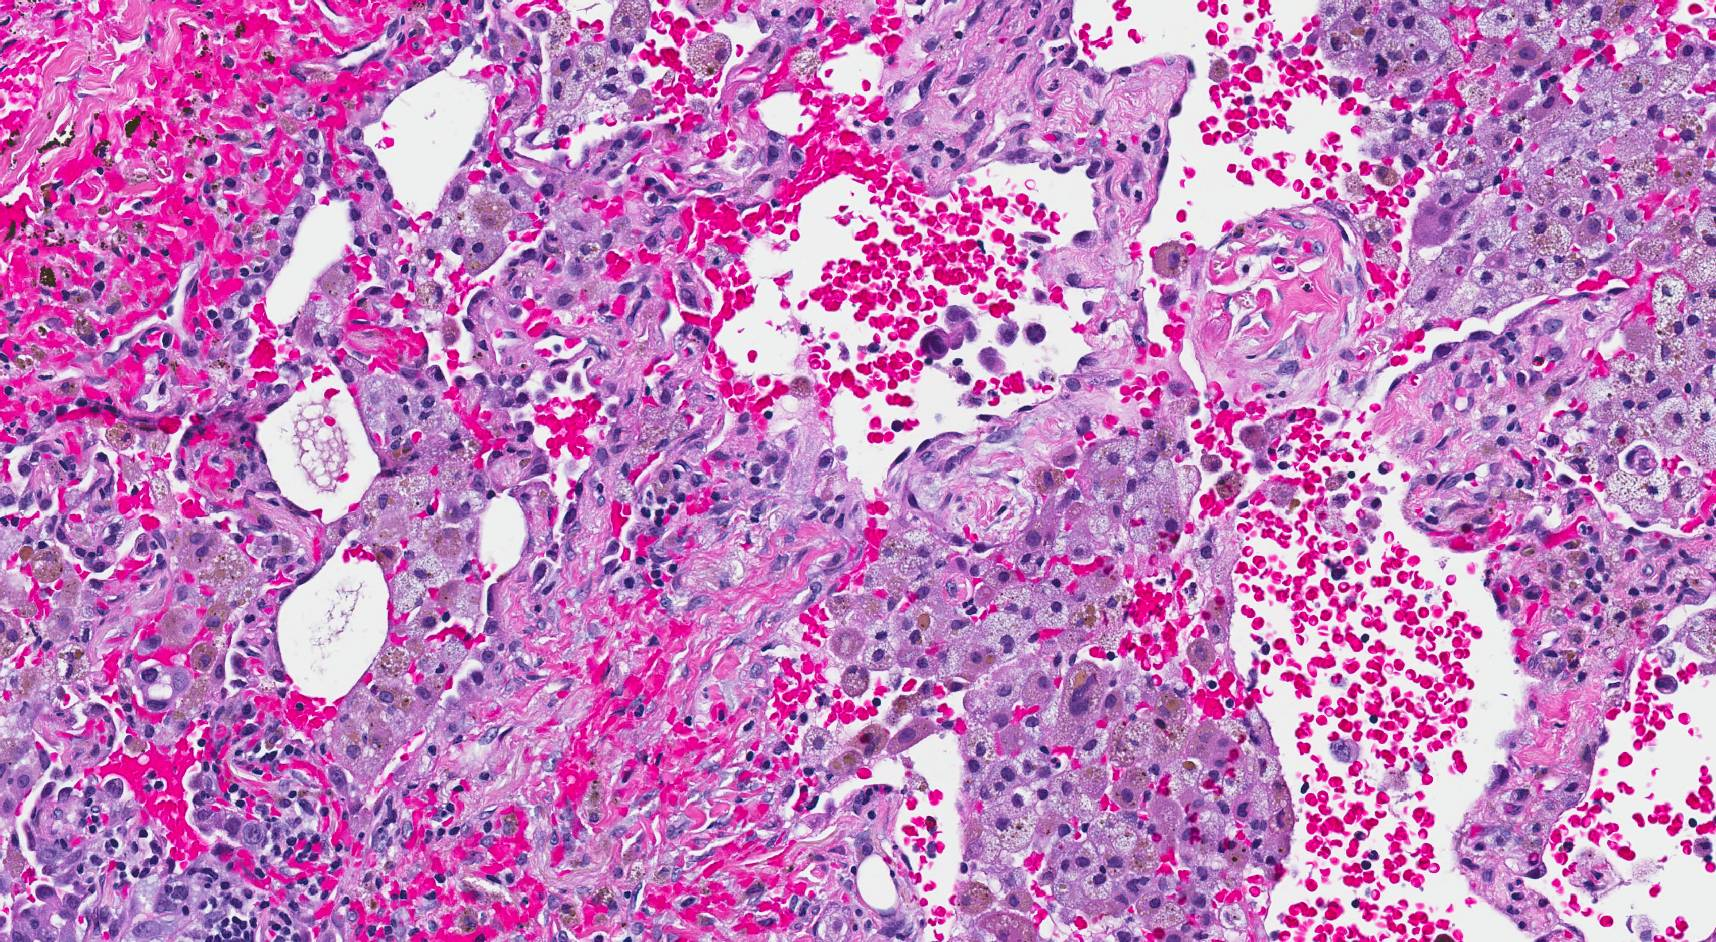stas: (919, 296, 980, 366)
